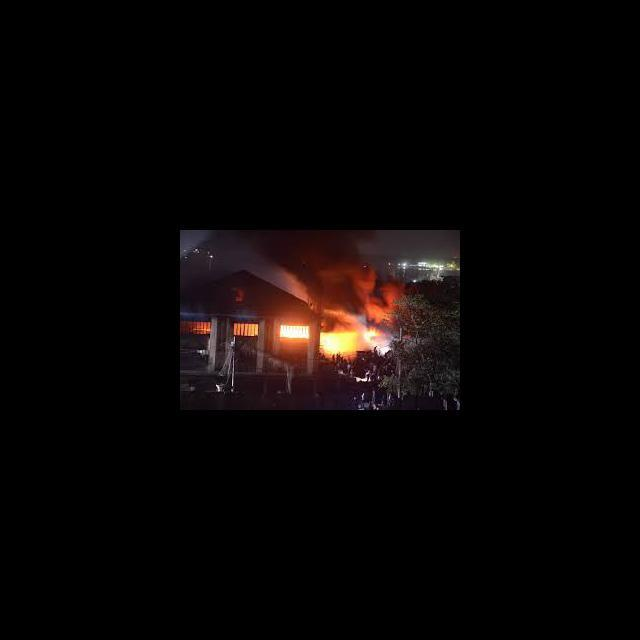Fire: (320, 330, 358, 354), (277, 323, 309, 340), (363, 327, 378, 342)
